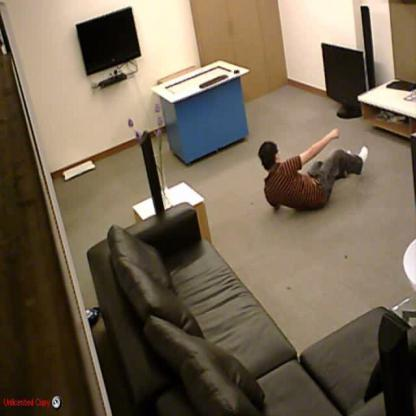Person: (257, 128, 370, 212)
